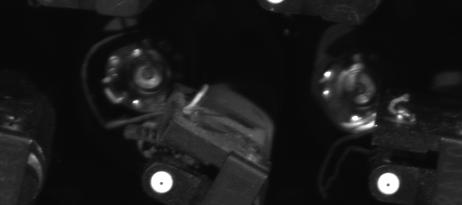fiber: (144, 166, 181, 201), (374, 168, 410, 201)
